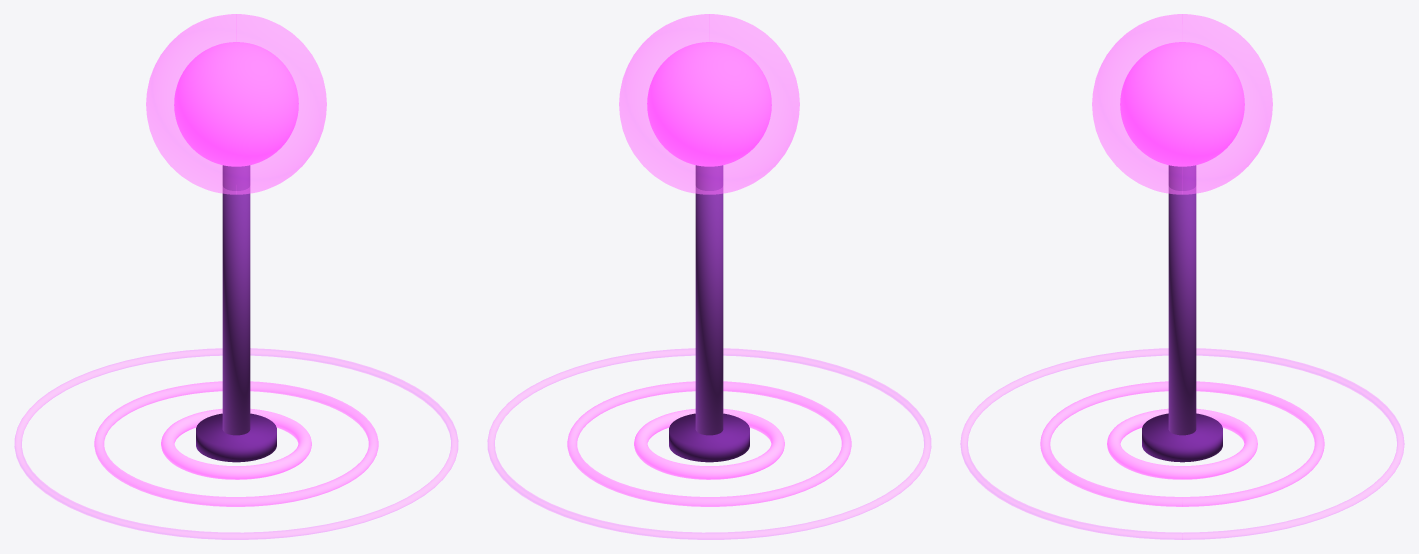
The model's file is map-pin-purple.glb.
3 renders of one model, left to right at view 1: azimuth 30°, elevation 25°; view 2: azimuth 150°, elevation 25°; view 3: azimuth 270°, elevation 25°, orthographic.
Visible parts, largest first — view 1: Glow, Cap, Pulse2, Column, Pulse1, Pulse0, Base; view 2: Glow, Cap, Pulse2, Column, Pulse1, Pulse0, Base; view 3: Glow, Cap, Pulse2, Column, Pulse1, Pulse0, Base.
Part boxes in pixels (x1,y1,x2,y2): Glow: (146,14,326,194); Cap: (174,42,298,166); Pulse2: (14,348,458,539); Column: (222,165,250,435); Pulse1: (94,381,378,506); Pulse0: (161,408,311,479); Base: (196,413,276,462); Glow: (619,14,799,194); Cap: (647,42,771,166); Pulse2: (487,348,931,539); Column: (695,165,723,435); Pulse1: (567,381,851,506); Pulse0: (634,408,784,479); Base: (669,413,749,462); Glow: (1092,14,1272,194); Cap: (1120,42,1244,166); Pulse2: (960,348,1404,539); Column: (1168,165,1196,435); Pulse1: (1040,381,1324,506); Pulse0: (1107,408,1257,479); Base: (1142,413,1222,462).
Size of the model in its own units: 1.42 by 1.51 by 1.42.
